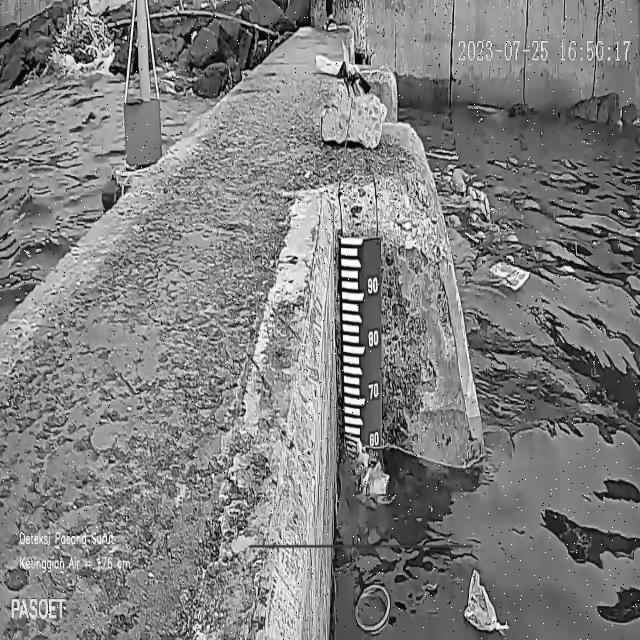60: (370, 432, 380, 447)
70: (368, 382, 379, 399)
80: (368, 331, 379, 346)
90: (367, 277, 379, 295)
staff: (340, 235, 382, 449)
